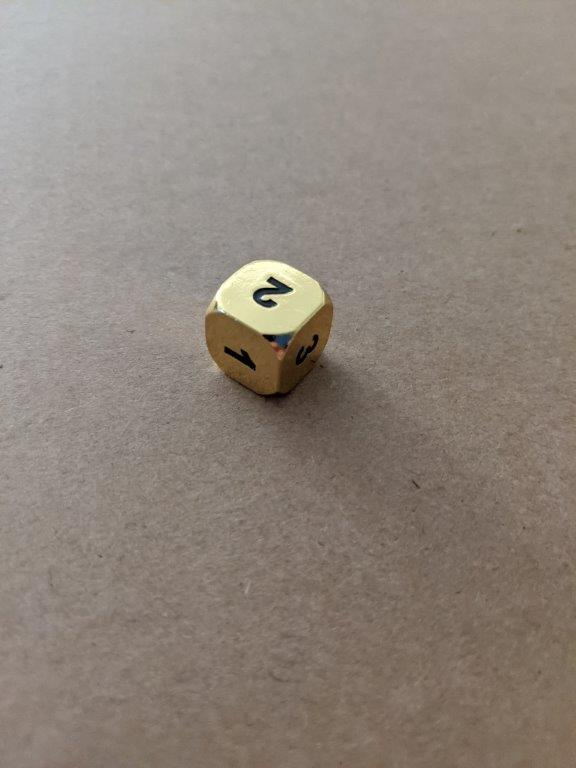d6-2: (204, 260, 335, 400)
